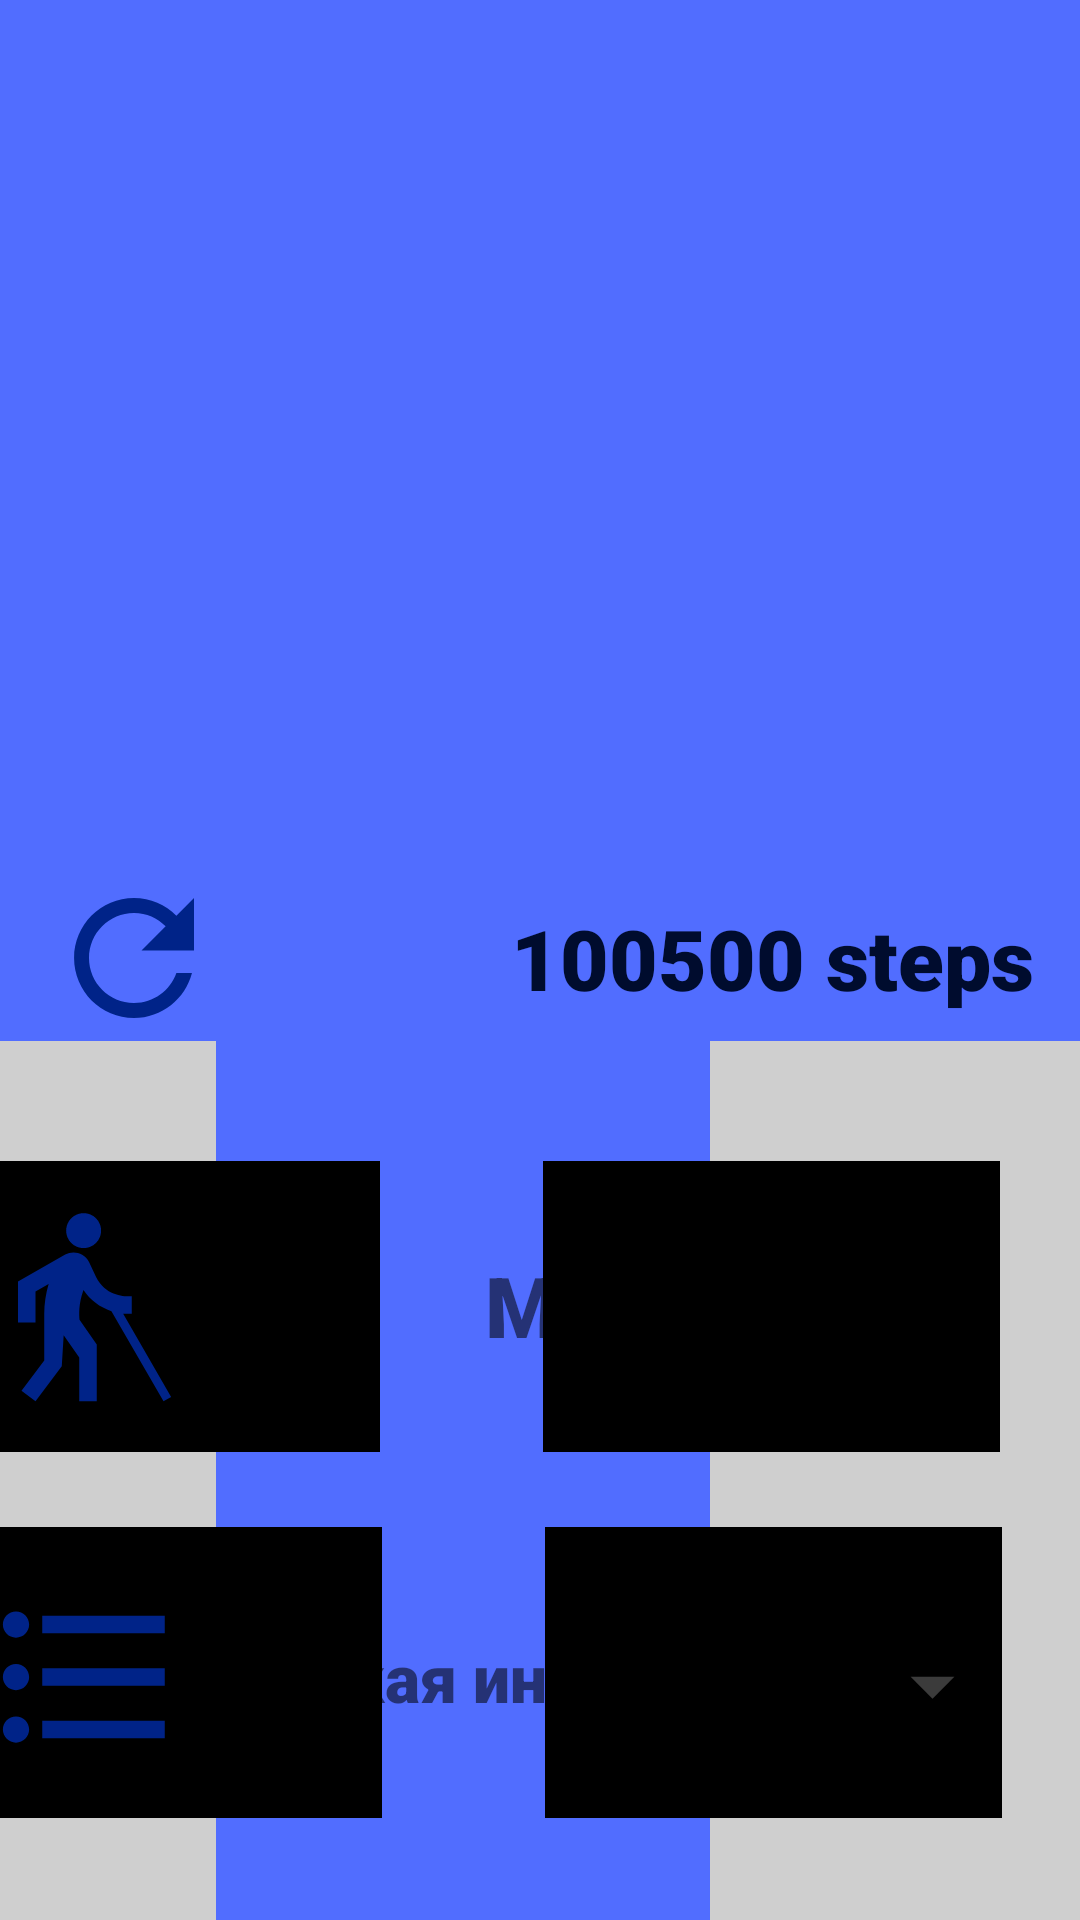

Screen size 1080*1920. Icon name, then its center in pixels as [x,y]:
arrow drop down: [932,1688]
blind: [94,1307]
format list bulleted: [84,1677]
refresh: [134,958]
